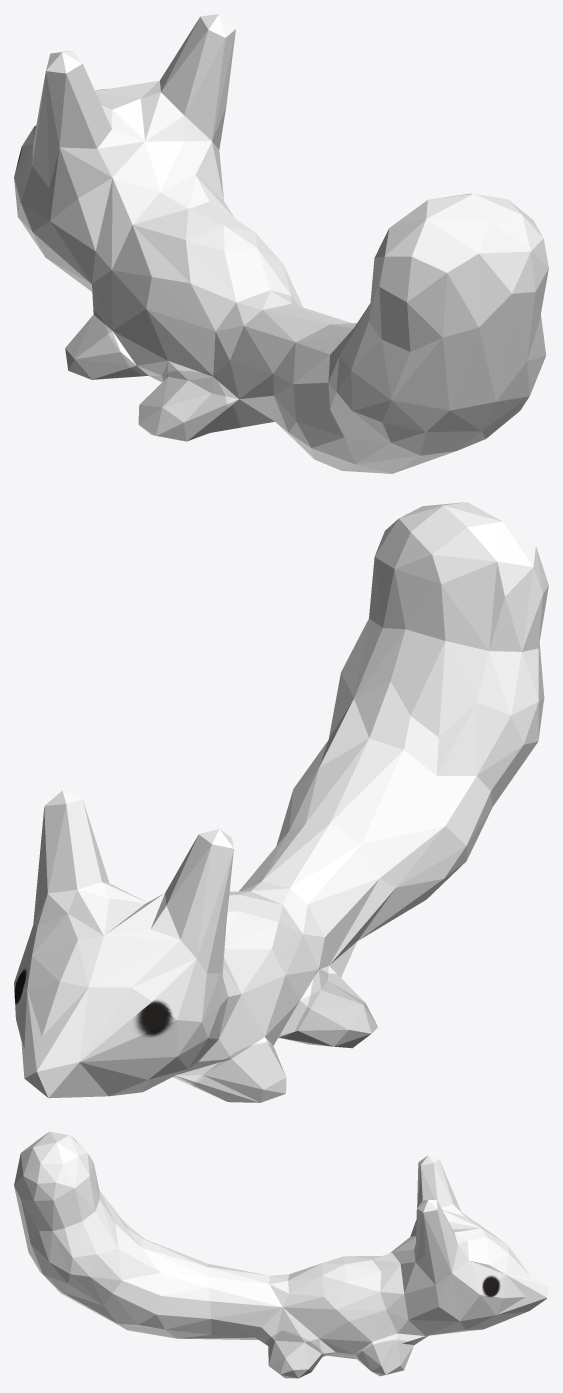
Rendered from animal_squirrel_blob.obj.
3 renders of one model, top to bottom at view 1: azimuth 30°, elevation 25°; view 2: azimuth 150°, elevation 25°; view 3: azimuth 270°, elevation 25°, orthographic. The views are drawn at different scales.
Visible parts, largest first — view 1: animal_squirrel_blob; view 2: animal_squirrel_blob; view 3: animal_squirrel_blob.
Part boxes in pixels (x1=…): animal_squirrel_blob: x1=14, y1=14, x2=548, y2=473; animal_squirrel_blob: x1=14, y1=502, x2=548, y2=1102; animal_squirrel_blob: x1=14, y1=1131, x2=548, y2=1378.
Size of the model in its own units: 0.2038 by 0.3065 by 0.6973.
